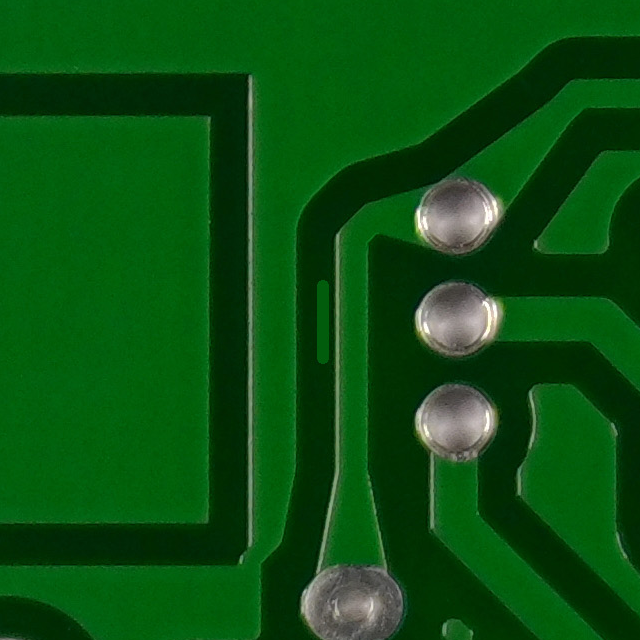spurious_copper: (299, 272, 342, 369)
